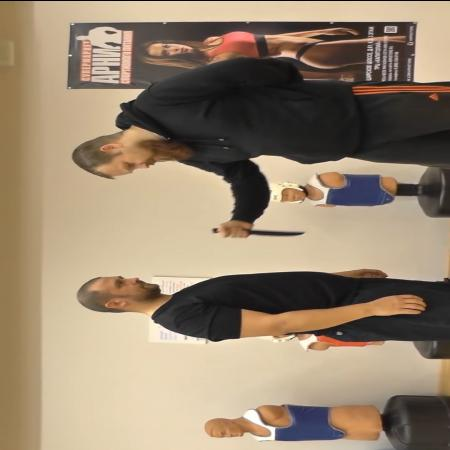long weapon: (207, 224, 309, 241)
